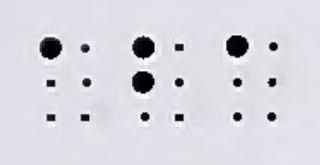letter_a: (38, 36, 95, 125), (225, 36, 282, 124)
letter_b: (132, 36, 188, 126)
